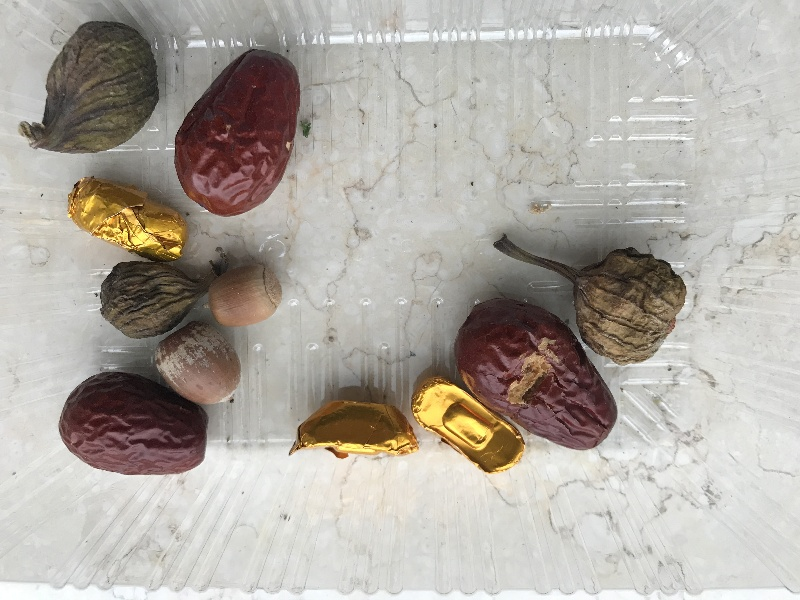date: (452, 299, 618, 453), (174, 48, 300, 218), (56, 373, 210, 476)
fig: (494, 236, 689, 364), (18, 20, 159, 154), (99, 257, 231, 340)
hazelnut: (158, 325, 245, 404), (208, 261, 281, 325)
